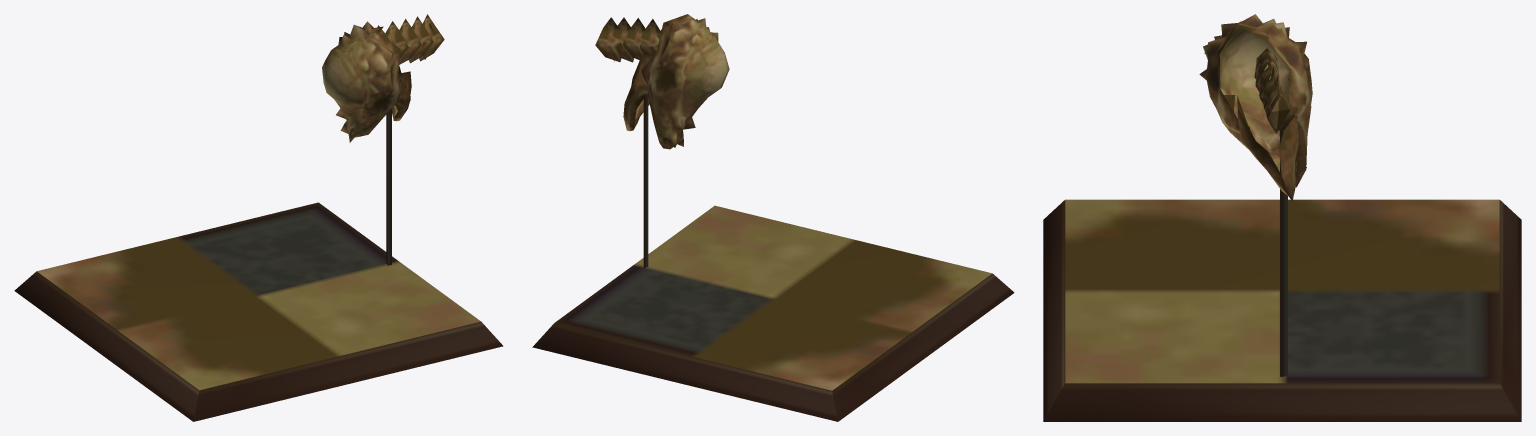
File: int_din_pachy_a.dae
3 views of the same model, side by side, from view 1: azimuth 30°, elevation 25°; view 2: azimuth 150°, elevation 25°; view 3: azimuth 270°, elevation 25° (orthographic). The views are drawn at different scales.
Visible parts, largest first — view 1: int_din_pachy_a; view 2: int_din_pachy_a; view 3: int_din_pachy_a.
Boxes of the visible parts, x1,y1,x2,y2 form: int_din_pachy_a: (14, 14, 503, 421); int_din_pachy_a: (532, 14, 1014, 421); int_din_pachy_a: (1043, 14, 1521, 421).
Bounding box in the file's own units: 63.36 × 49.64 × 58.65.
Materials: 1 (1 with a texture image).
